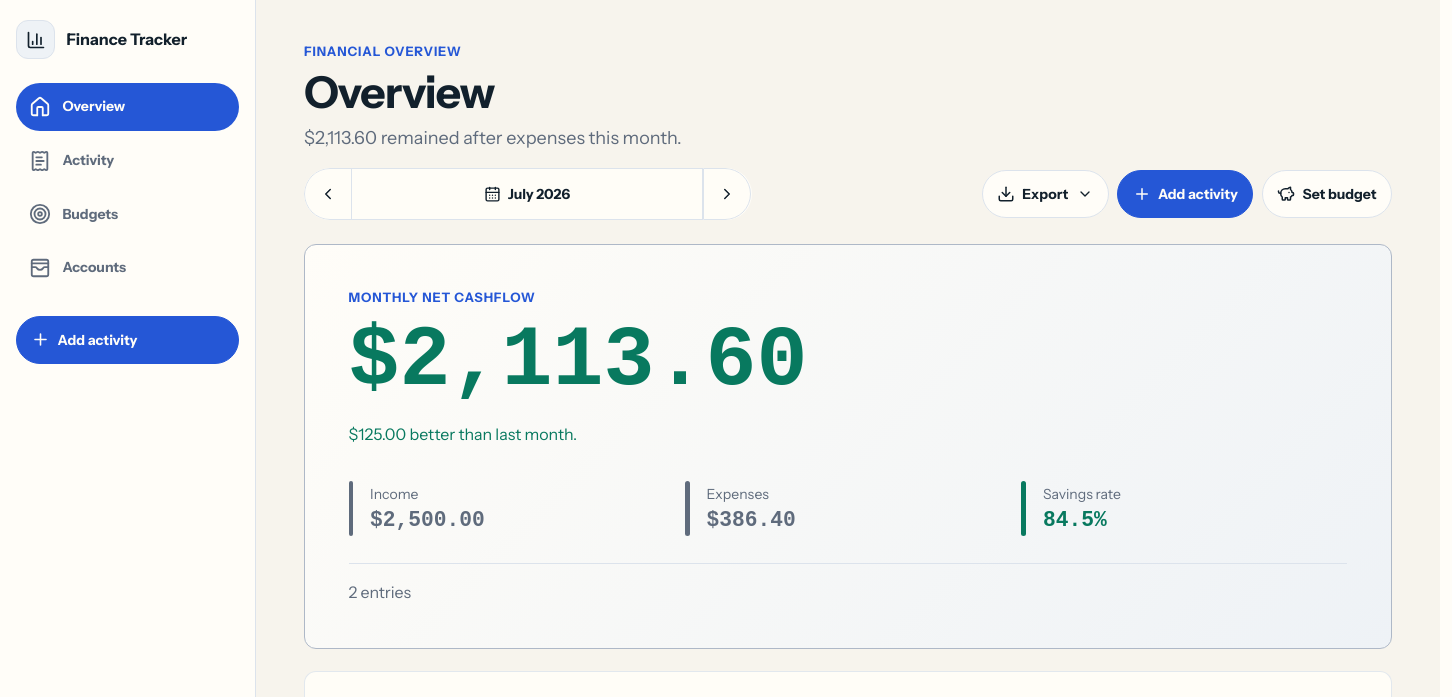
app composition › switches destinations without interpolating their scroll contexts
Click the link "Activity" at coordinates (71, 161), box 29,150 -> 114,172
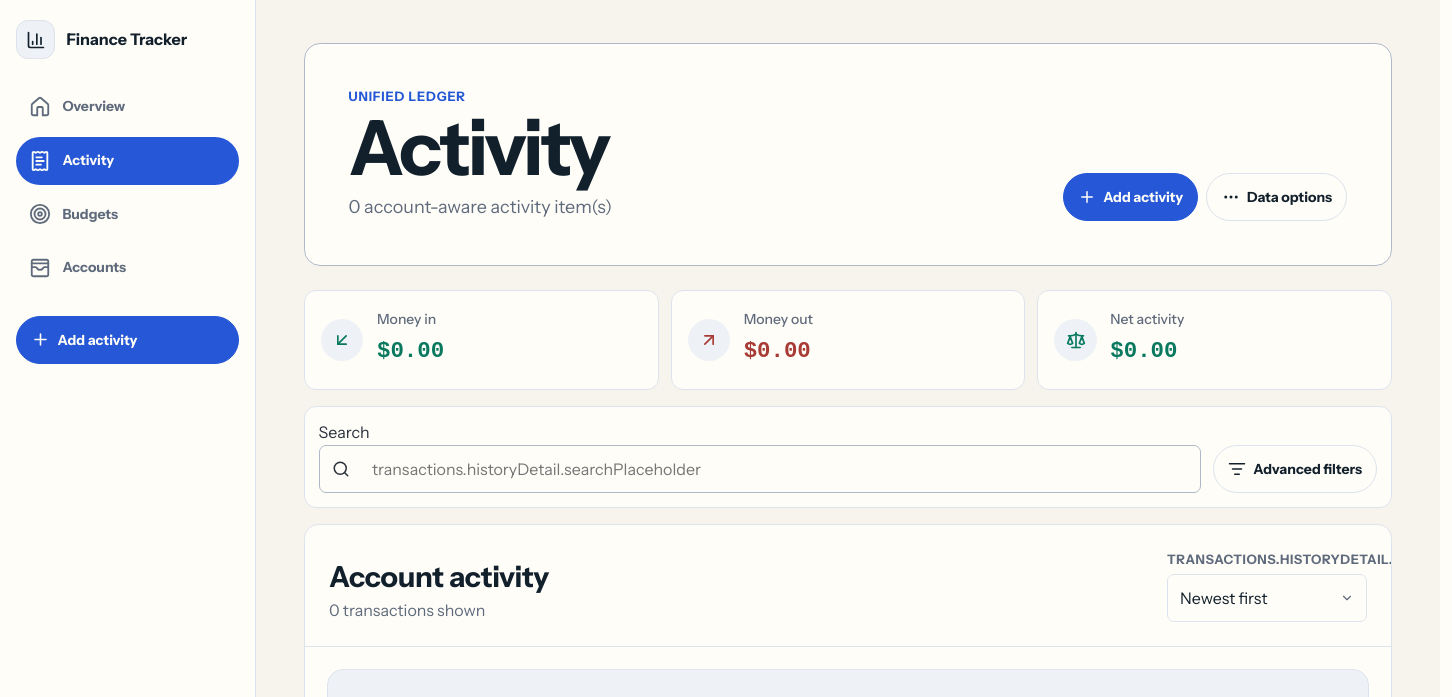
Check: the heading "Activity" is shown, box 348,101 -> 608,194
